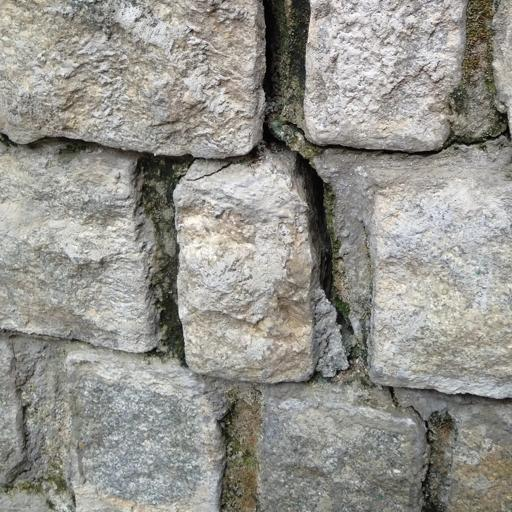major_crack: (229, 1, 386, 436), (267, 95, 512, 174), (0, 115, 199, 173), (377, 378, 459, 512)
